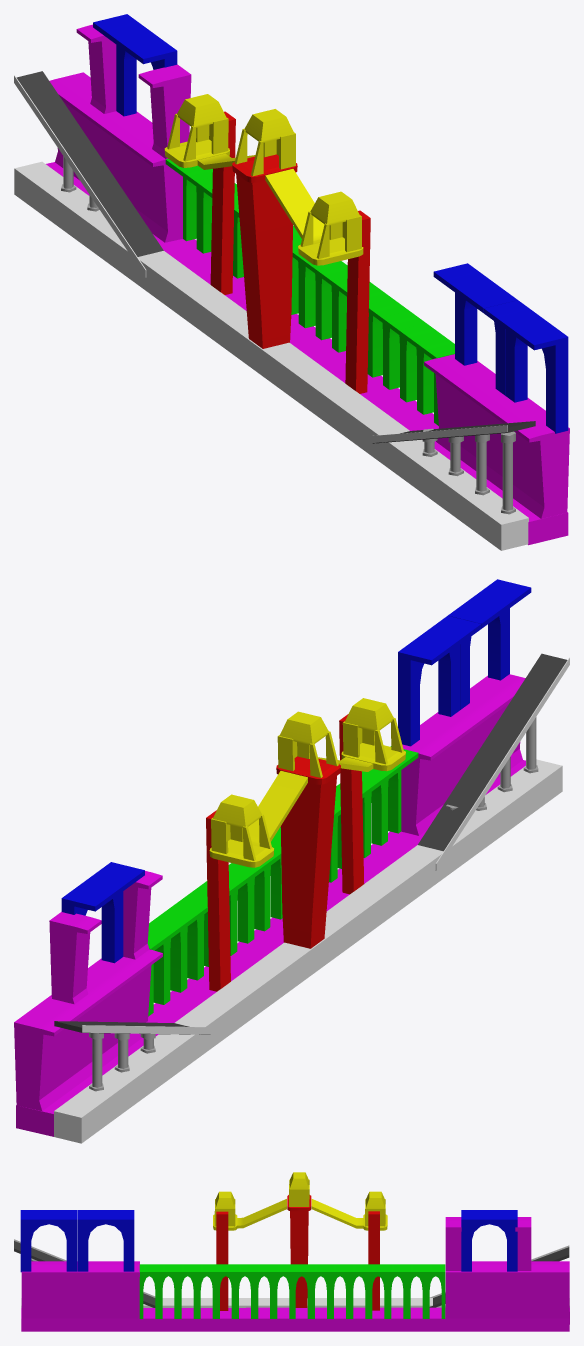
The model's file is lift_3.fbx.
The picture shows the model from 3 angles, top to bottom: view 1: azimuth 30°, elevation 25°; view 2: azimuth 150°, elevation 25°; view 3: azimuth 270°, elevation 25°; orthographic projection. The views are drawn at different scales.
Visible parts, largest first — view 1: polySurface2312, polySurface2218, polySurface2216; view 2: polySurface2312, polySurface2216, polySurface2218; view 3: polySurface2312, polySurface2218, polySurface2216.
Part boxes in pixels (x1,y1,x2,y2): polySurface2312: [14, 14, 569, 550]; polySurface2218: [298, 191, 363, 265]; polySurface2216: [164, 94, 229, 167]; polySurface2312: [14, 579, 569, 1143]; polySurface2216: [209, 794, 274, 867]; polySurface2218: [341, 698, 405, 771]; polySurface2312: [14, 1172, 569, 1331]; polySurface2218: [213, 1191, 237, 1230]; polySurface2216: [363, 1191, 387, 1230].
Size of the model in its own units: 114 by 328 by 1163.
